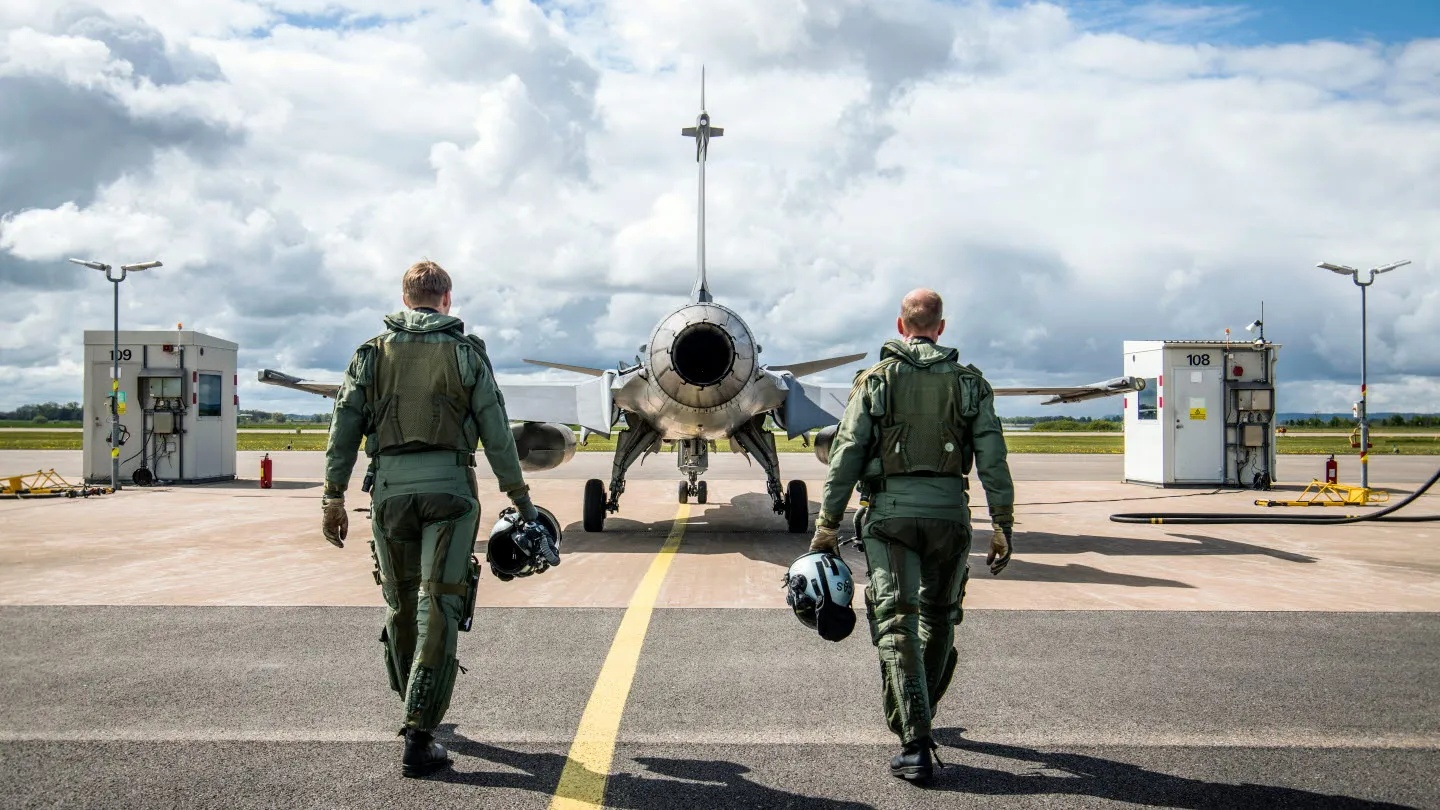JAS39: (257, 63, 1146, 533)
